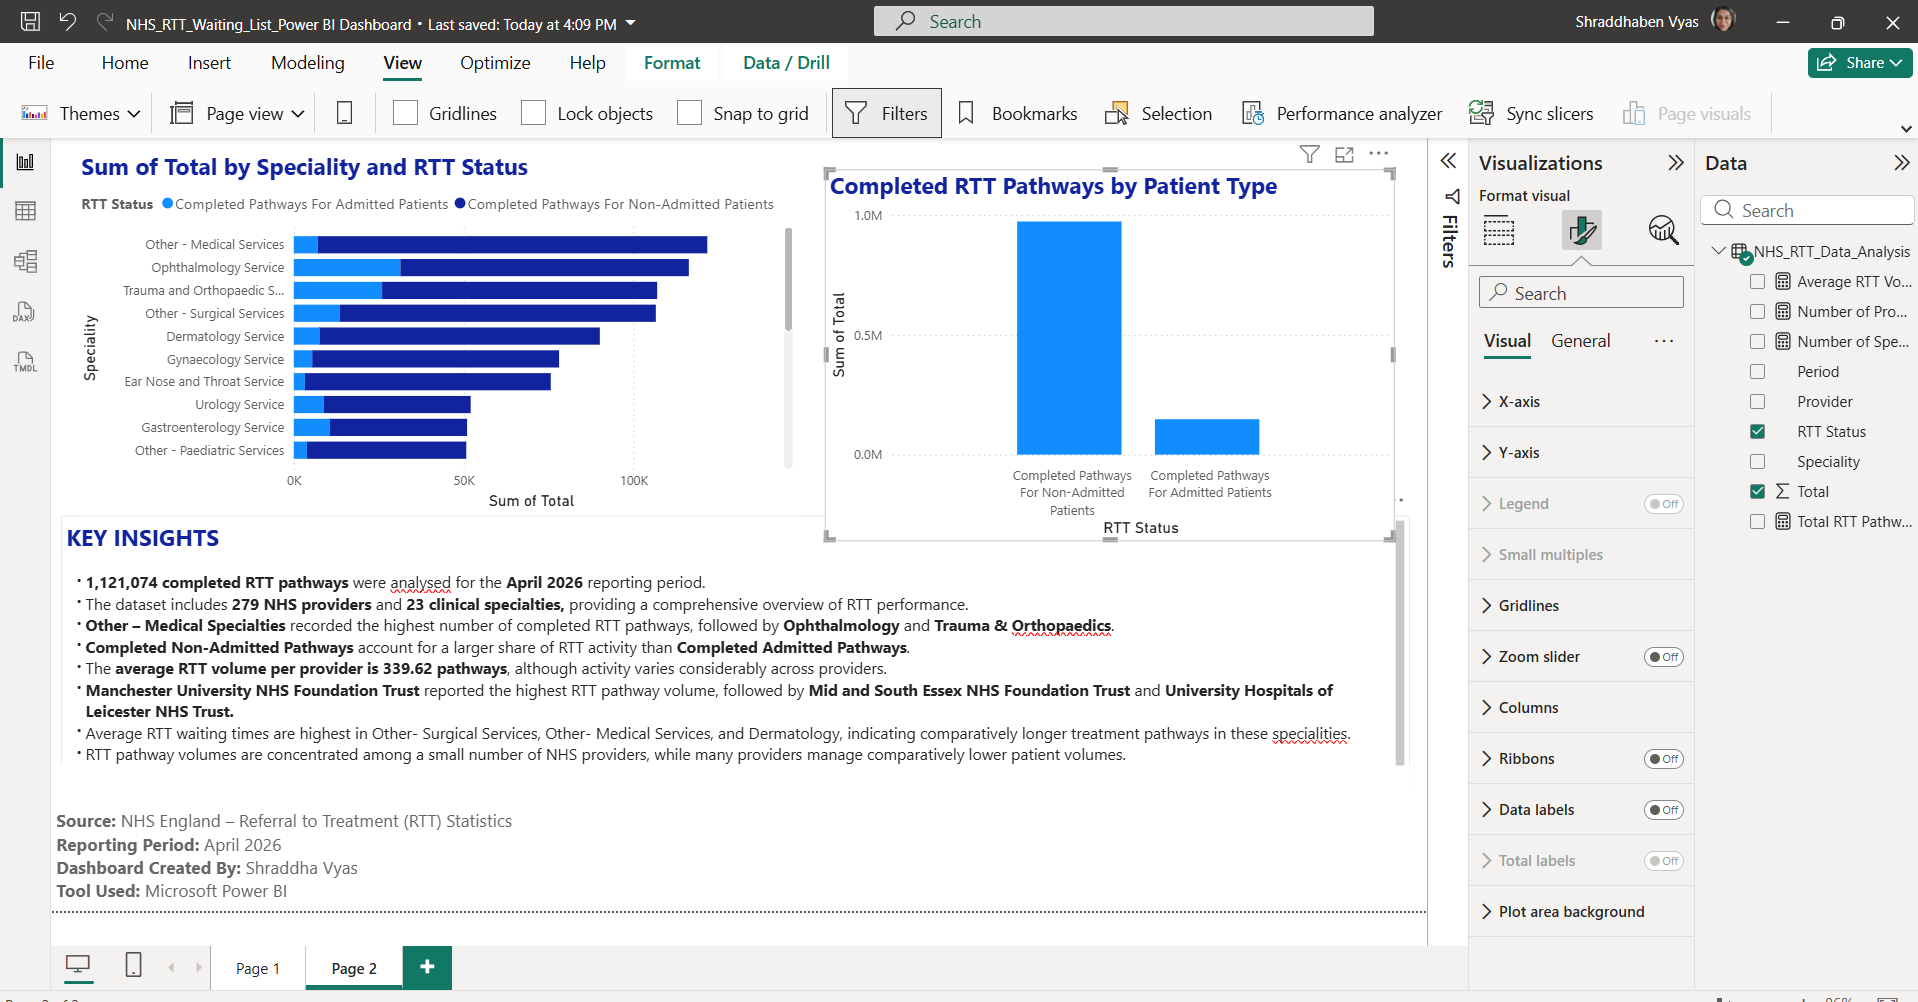

This screenshot's page, from the dashboard's own definition file:
{"tool":"powerbi","page":{"name":"Page 2","canvas":[1280,720],"ordinal":1},"visuals":[{"type":"columnChart","title":"Completed RTT Pathways by Patient Type","fields":{"Category":["NHS_RTT_Data_Analysis.RTT Status"],"Y":["Sum(NHS_RTT_Data_Analysis.Total)"]},"box":[719.8,29.1,530.2,346.5],"z":0},{"type":"textbox","box":[9.3,351.2,1254.7,254.7],"z":1000},{"type":"barChart","fields":{"Category":["NHS_RTT_Data_Analysis.Speciality"],"Series":["NHS_RTT_Data_Analysis.RTT Status"],"Y":["Sum(NHS_RTT_Data_Analysis.Total)"]},"box":[23,12,672,339],"z":2000},{"type":"textbox","box":[0,583.7,1264,136],"z":3000}]}

Visuals, with their boxes on the page's 1280x720 design canvas (x1, y1, x2, y2). These are canvas units, not pixel positions in the 1918x1002 screenshot, which may show the page scaled, cropped or inside an application window:
"Completed RTT Pathways by Patient Type" columnChart: <region>720, 29, 1250, 376</region>
textbox: <region>9, 351, 1264, 606</region>
barChart - NHS_RTT_Data_Analysis.Speciality x NHS_RTT_Data_Analysis.RTT Status: <region>23, 12, 695, 351</region>
textbox: <region>0, 584, 1264, 720</region>
